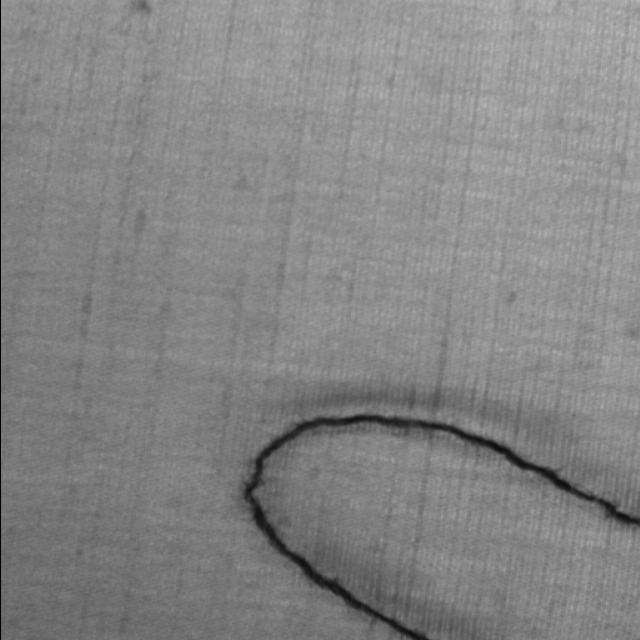Thread: (238, 411, 640, 640)
